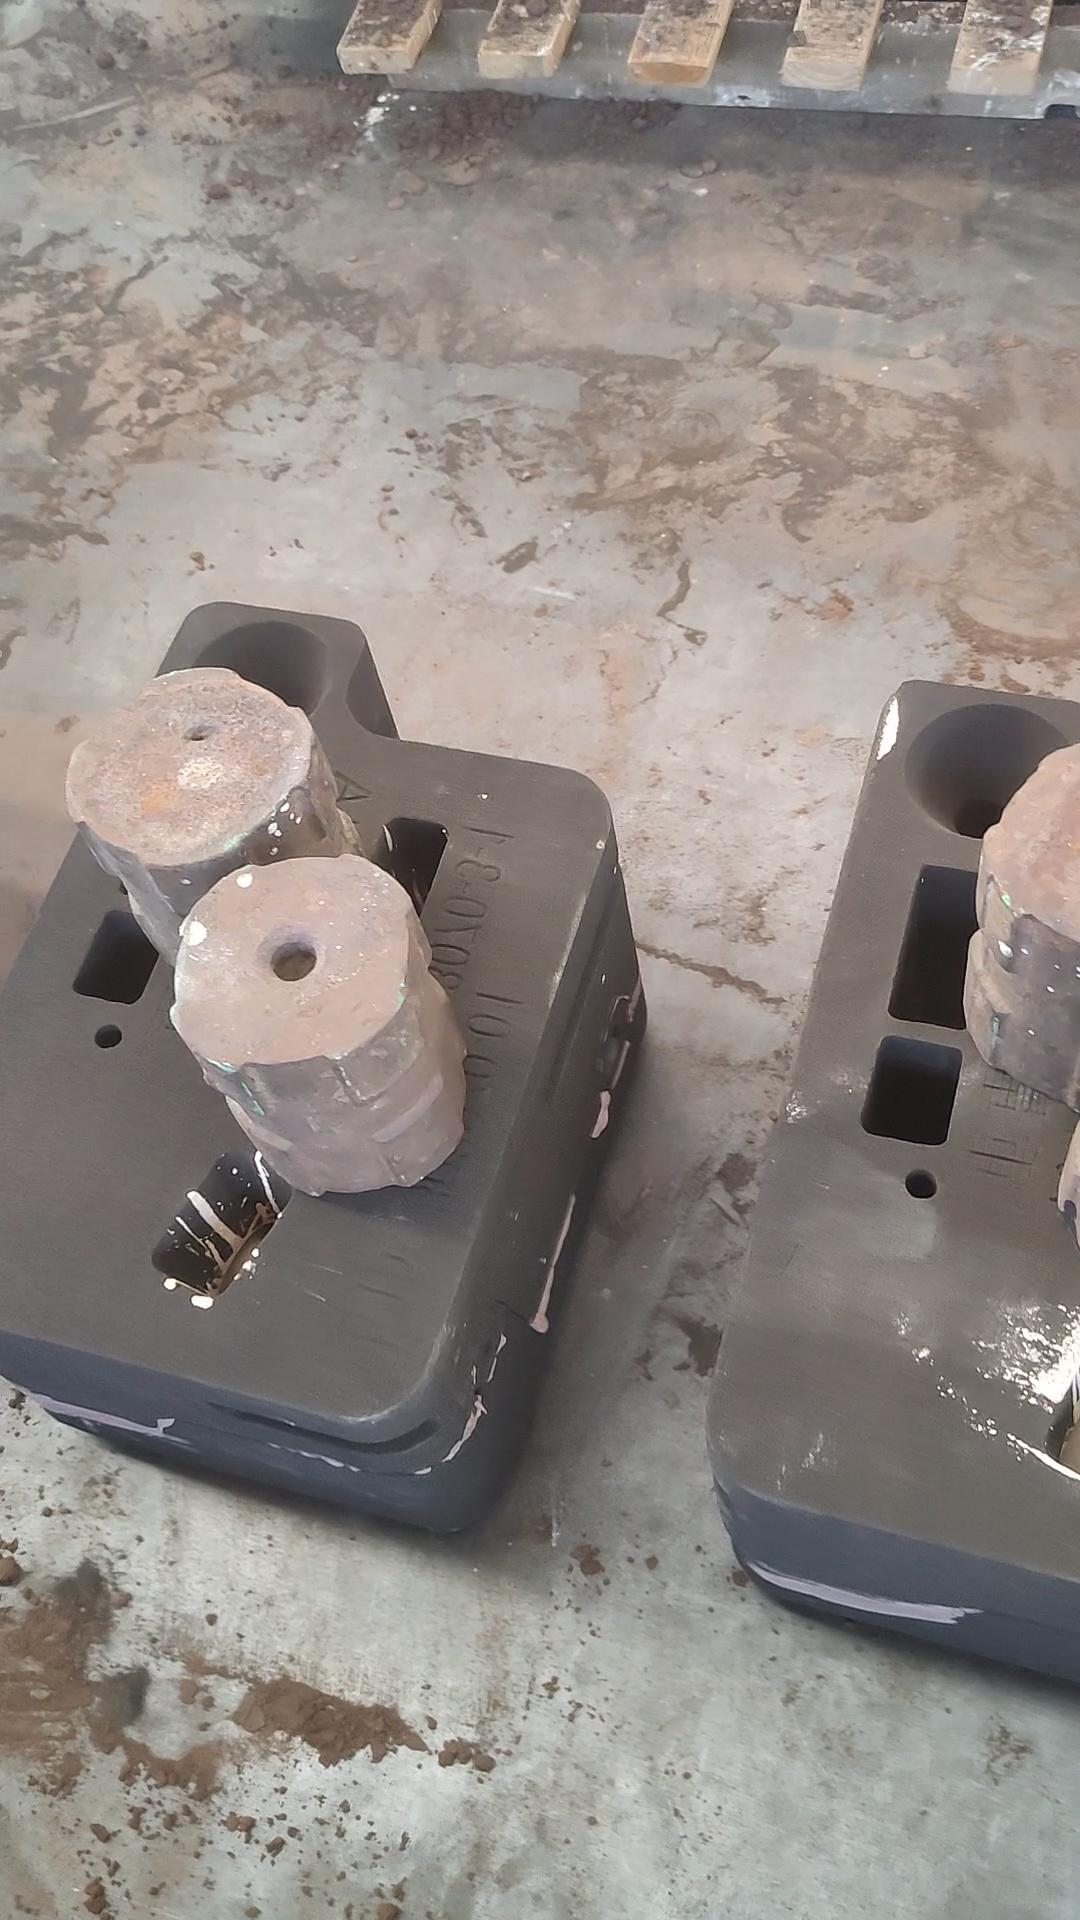pouring hole: (903, 703, 1077, 841), (189, 620, 330, 735)
